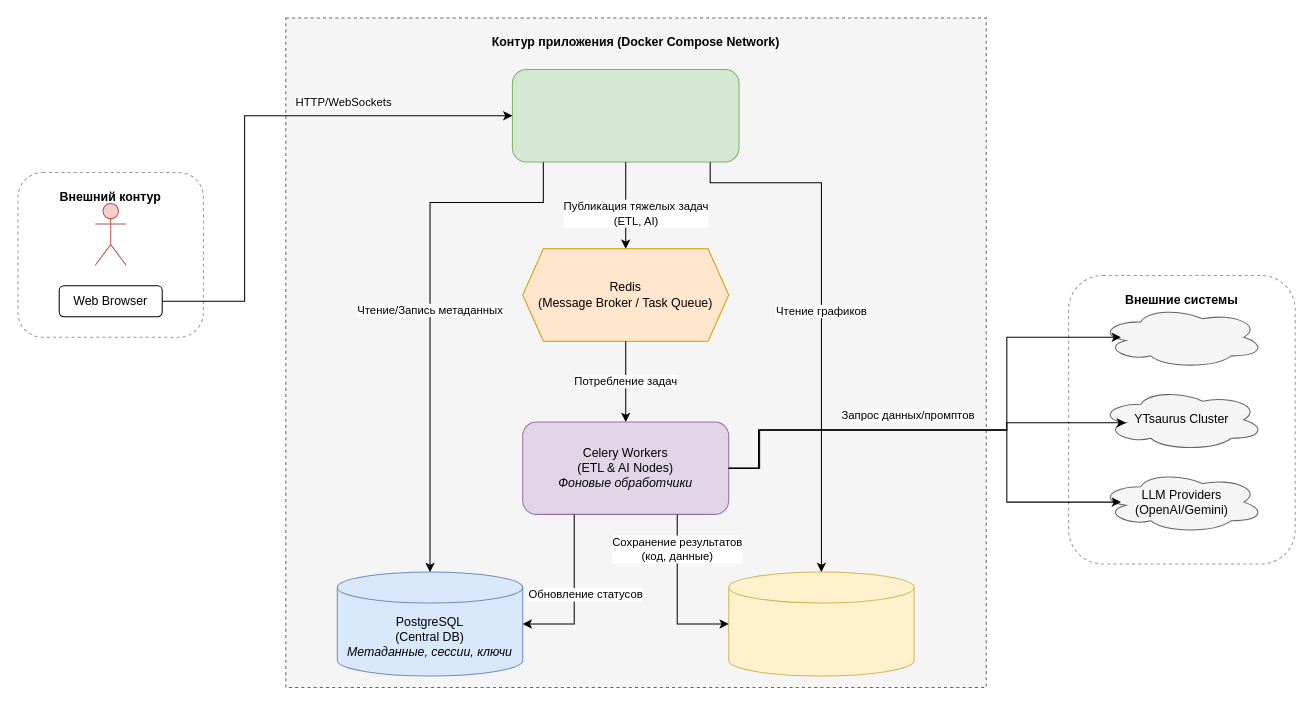
Some shapes in this 1313 by 706 pixel diagram are drawn without their labels. The centre of each missing label's shape, as x and y in pixels:
Google Sheets API: [1181,336]
MinIO (S3) (Объектное хранилище) Файлы, скрипты, графики: [821,623]
Streamlit UI App (Stateless Web Server) + Модуль OIDC/OAuth: [625,115]
Пользователи (Dev Team 20+): [110,233]
